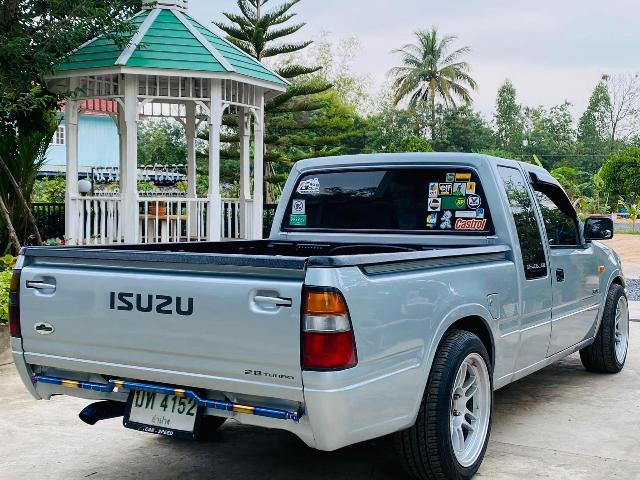pickup-truck: (3, 113, 640, 480)
